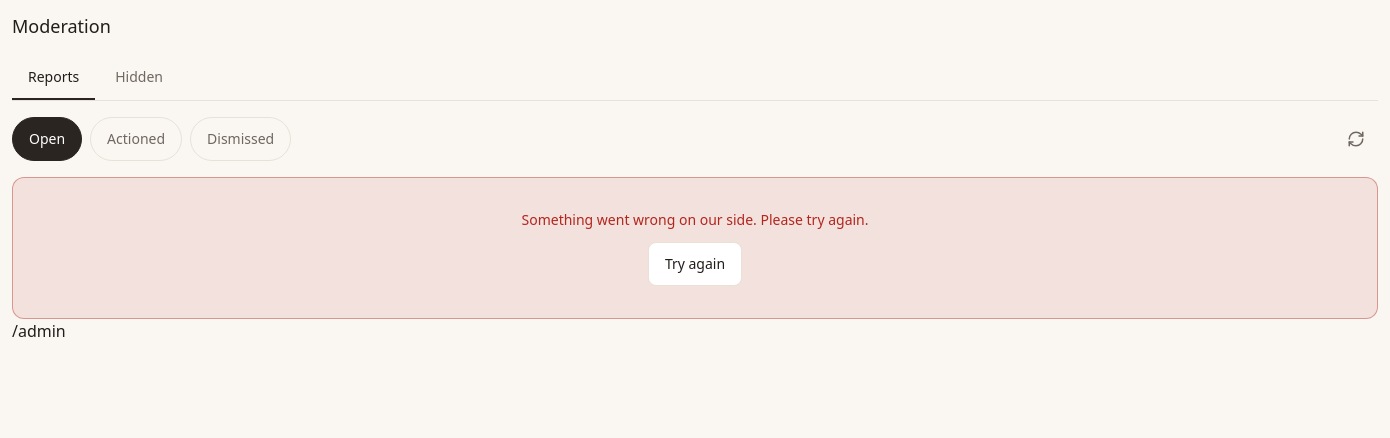
Test: AdminPage queue › shows an error with a retry
The image size is (1390, 438).
Click the button "Try again": (695, 264) 648,242 -> 742,286
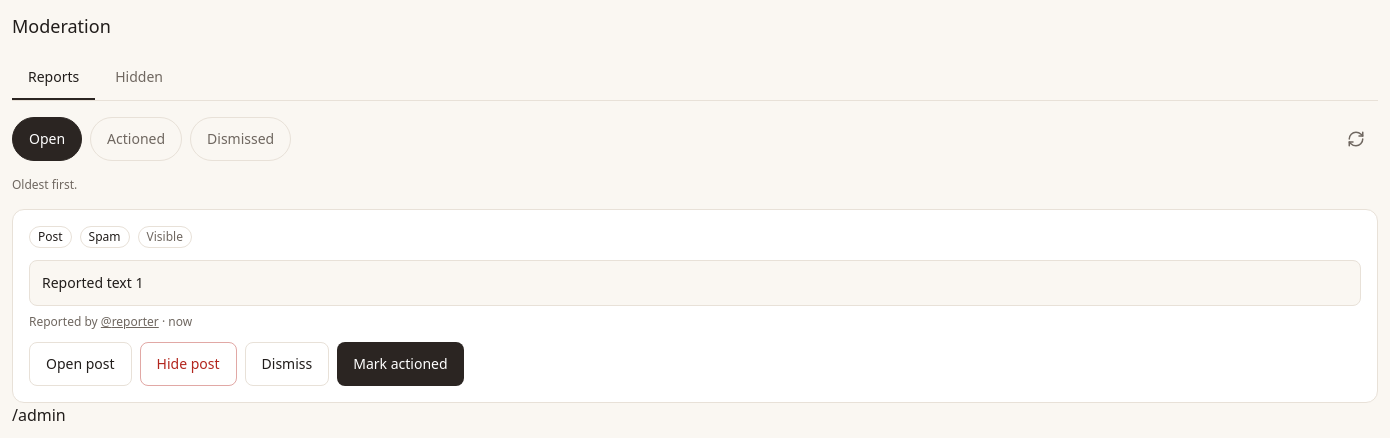
expect the text "Reported text 1" is shown: met, box 29,260 -> 1361,306
